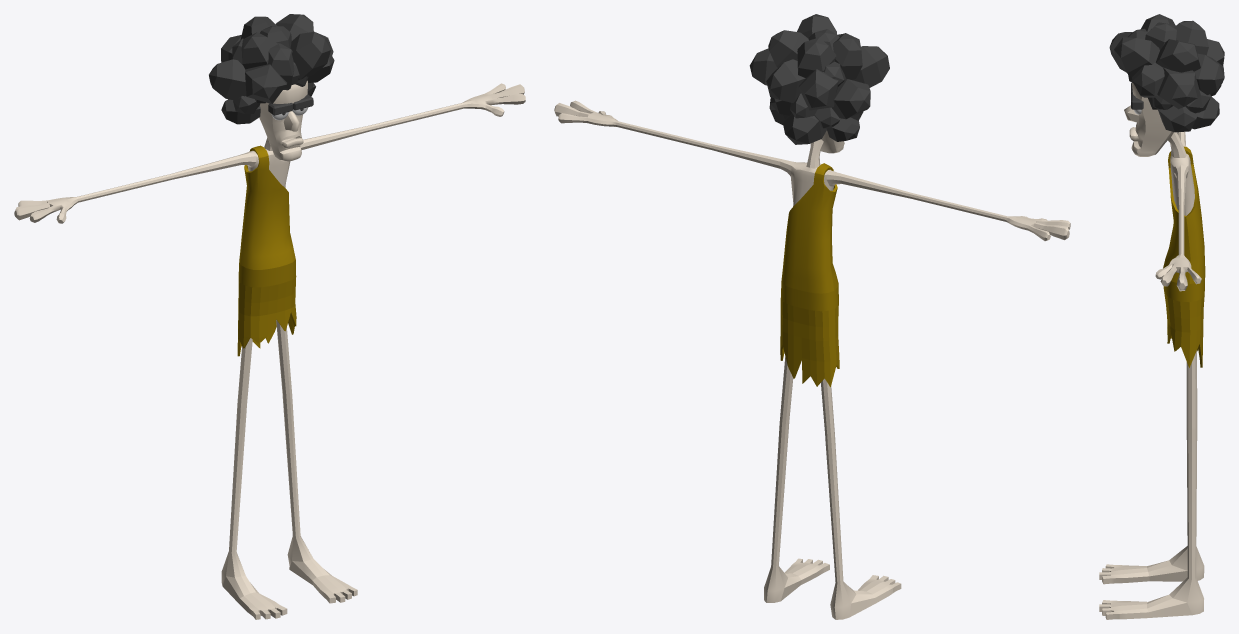
The model's file is BushmanT.fbx.
3 renders of one model, left to right at view 1: azimuth 30°, elevation 25°; view 2: azimuth 150°, elevation 25°; view 3: azimuth 270°, elevation 25°, orthographic.
Visible parts, largest first — view 1: polySurface2, polySurface4, pSphere11, pSphere7, pSphere5, pSphere6, pSphere27; view 2: polySurface2, polySurface4, pSphere5, pSphere22, pSphere15, pSphere12, pSphere6, pSphere7, pSphere24, pSphere16; view 3: polySurface2, polySurface4, pSphere17, pSphere11, pSphere16, pSphere15, pSphere20, pSphere18, pSphere12, pSphere13, pSphere24, pSphere22 (+4 smaller).
Part boxes in pixels (x1=…): polySurface2: x1=14, y1=80, x2=525, y2=619; polySurface4: x1=237, y1=145, x2=296, y2=356; pSphere11: x1=290, y1=31, x2=330, y2=79; pSphere7: x1=245, y1=64, x2=286, y2=104; pSphere5: x1=209, y1=59, x2=246, y2=100; pSphere6: x1=241, y1=32, x2=277, y2=69; pSphere27: x1=268, y1=43, x2=294, y2=90; polySurface2: x1=554, y1=100, x2=1070, y2=619; polySurface4: x1=780, y1=163, x2=839, y2=386; pSphere5: x1=831, y1=78, x2=870, y2=119; pSphere22: x1=798, y1=69, x2=838, y2=110; pSphere15: x1=766, y1=59, x2=805, y2=102; pSphere12: x1=797, y1=37, x2=836, y2=77; pSphere6: x1=833, y1=33, x2=862, y2=79; pSphere7: x1=852, y1=46, x2=889, y2=87; pSphere24: x1=783, y1=113, x2=826, y2=144; pSphere16: x1=768, y1=30, x2=808, y2=67; polySurface2: x1=1099, y1=83, x2=1204, y2=619; polySurface4: x1=1163, y1=146, x2=1205, y2=367; pSphere17: x1=1157, y1=67, x2=1200, y2=109; pSphere11: x1=1114, y1=37, x2=1159, y2=77; pSphere16: x1=1155, y1=39, x2=1200, y2=72; pSphere15: x1=1194, y1=53, x2=1224, y2=94; pSphere20: x1=1132, y1=62, x2=1164, y2=97; pSphere18: x1=1158, y1=106, x2=1198, y2=132; pSphere12: x1=1174, y1=20, x2=1208, y2=55; pSphere13: x1=1145, y1=22, x2=1176, y2=50; pSphere24: x1=1192, y1=96, x2=1219, y2=129; pSphere22: x1=1206, y1=39, x2=1224, y2=65.
Size of the model in its own units: 14.48 by 15.31 by 3.05.
